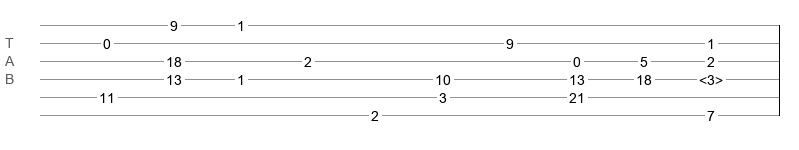0: (103, 36, 111, 46), (573, 54, 581, 64)
1: (237, 18, 245, 28), (237, 72, 245, 82), (707, 36, 715, 46)
10: (435, 72, 451, 82)
11: (99, 90, 115, 100)
13: (166, 72, 182, 82), (569, 72, 585, 82)
18: (166, 54, 182, 64), (636, 72, 652, 82)
2: (304, 54, 312, 64), (371, 108, 379, 118), (707, 54, 715, 64)
21: (569, 90, 585, 100)
3: (439, 90, 447, 100)
5: (640, 54, 648, 64)
7: (707, 108, 715, 118)
9: (170, 18, 178, 28), (506, 36, 514, 46)
harmonic: (699, 72, 723, 82)
